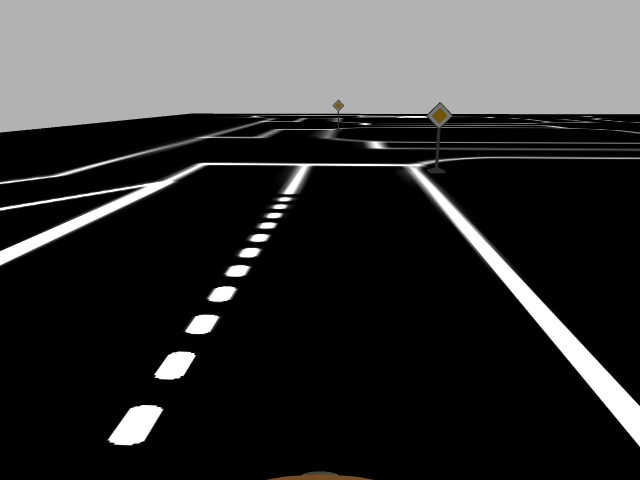priority: (426, 102, 453, 129)
